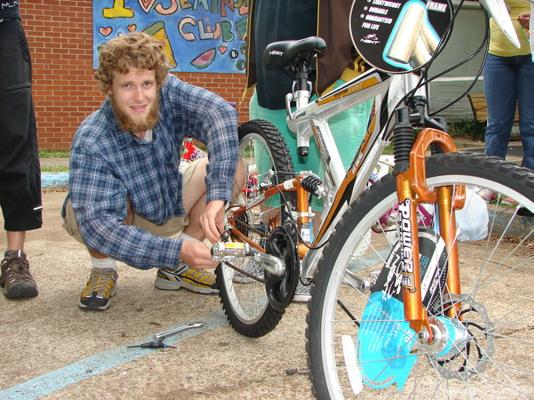person: (59, 29, 242, 311)
